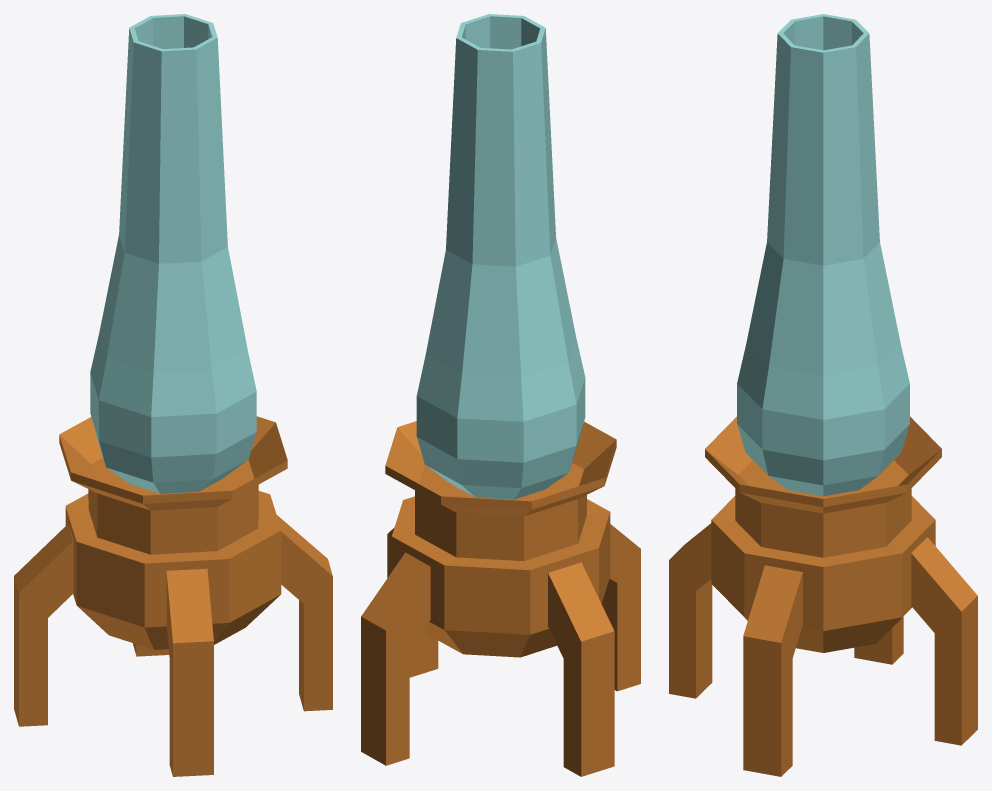
Rendered from LampUnlit.fbx.
3 renders of one model, left to right at view 1: azimuth 30°, elevation 25°; view 2: azimuth 150°, elevation 25°; view 3: azimuth 270°, elevation 25°, orthographic.
Visible parts, largest first — view 1: LampUnlit; view 2: LampUnlit; view 3: LampUnlit.
Boxes of the visible parts, box(x1,y1,x2,y2) form: LampUnlit: box(14, 14, 332, 776); LampUnlit: box(361, 14, 640, 776); LampUnlit: box(669, 14, 977, 776).
Size of the model in its own units: 13.31 by 32.27 by 13.31.
